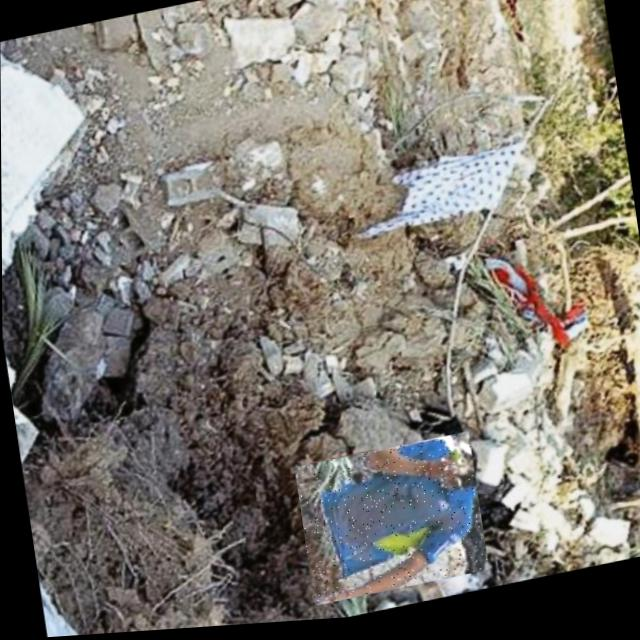Person in Rubble: (293, 437, 488, 611)
